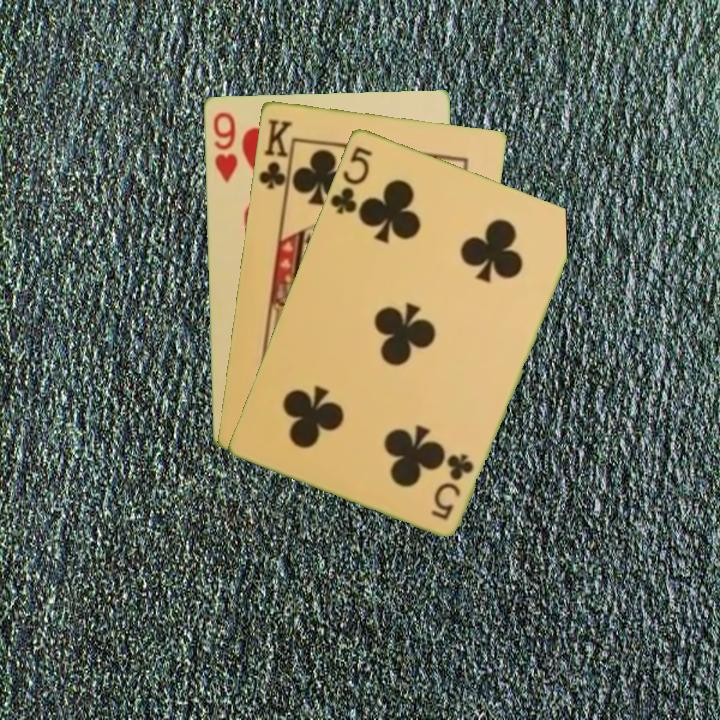5c: (427, 449, 477, 523), (326, 142, 375, 217)
9h: (209, 108, 240, 185)
Kc: (254, 115, 295, 196)
